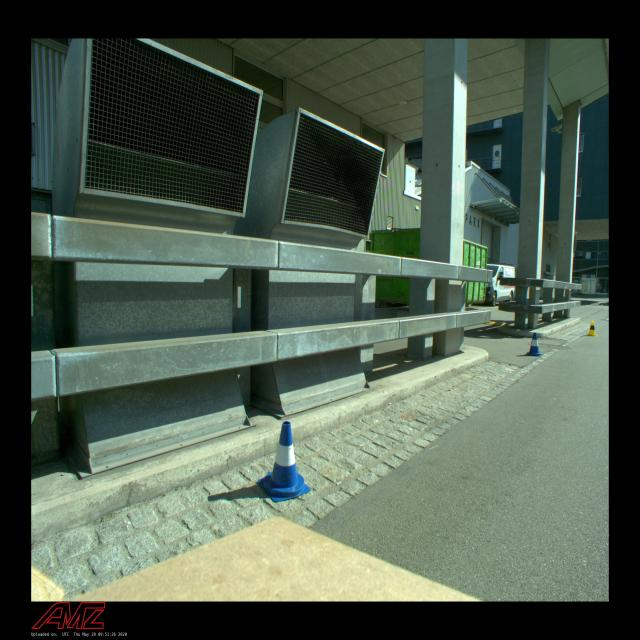blue_cone: (258, 421, 311, 502), (525, 332, 542, 357)
yellow_cone: (586, 321, 598, 336)
